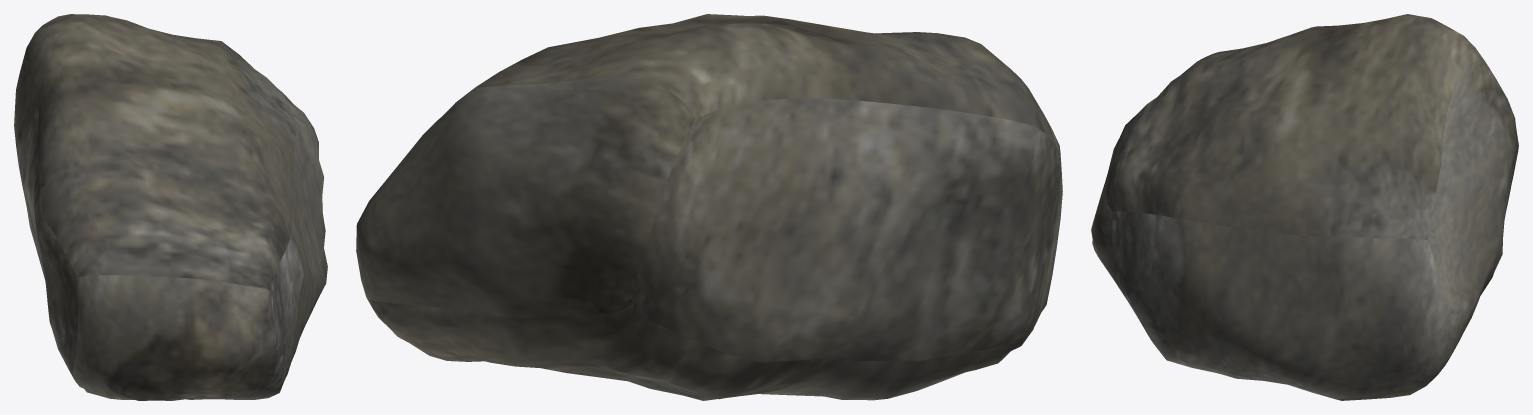
Rendered from Rock2.fbx.
3 views of the same model, side by side, from view 1: azimuth 30°, elevation 25°; view 2: azimuth 150°, elevation 25°; view 3: azimuth 270°, elevation 25° (orthographic). The views are drawn at different scales.
Visible parts, largest first — view 1: Rock4; view 2: Rock4; view 3: Rock4.
Part boxes in pixels (<box>): Rock4: <box>14,14,327,400</box>; Rock4: <box>356,14,1062,400</box>; Rock4: <box>1091,14,1518,400</box>.
Size of the model in its own units: 24.2 by 19.96 by 24.62.
